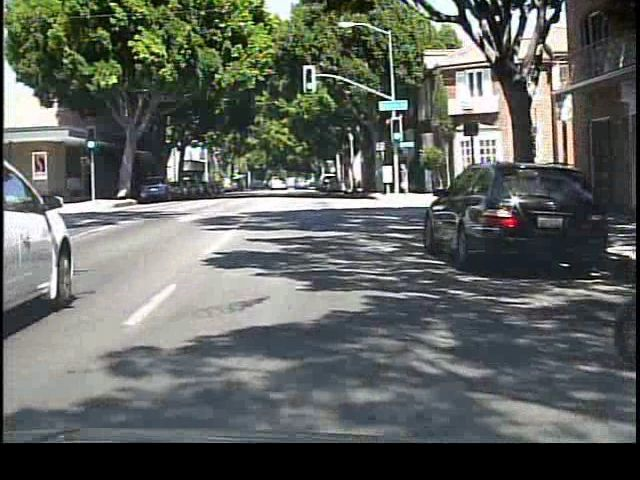person: (396, 157, 414, 196)
